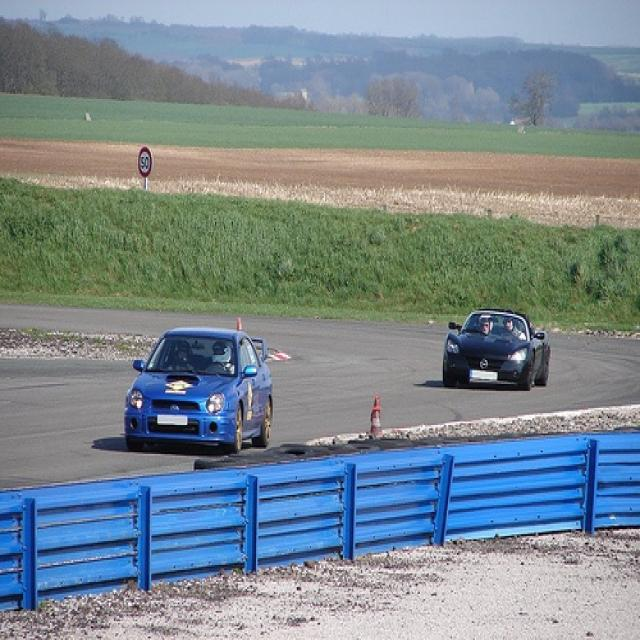car: (124, 326, 273, 454), (443, 312, 550, 389)
